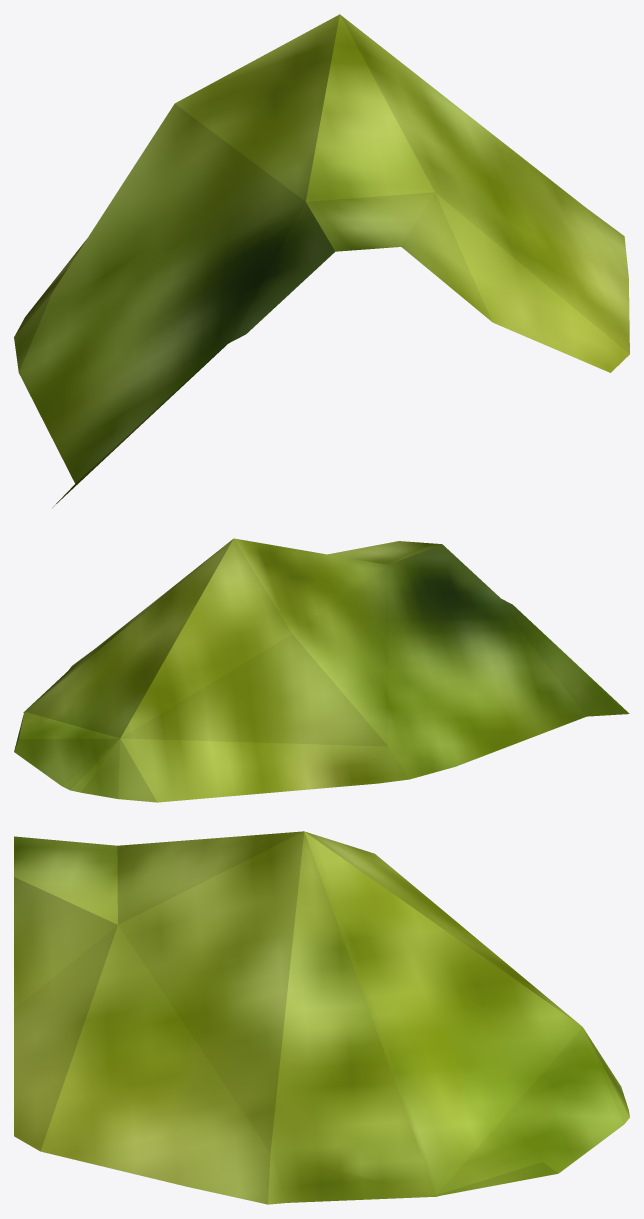
The picture shows the model from 3 angles, top to bottom: view 1: azimuth 30°, elevation 25°; view 2: azimuth 150°, elevation 25°; view 3: azimuth 270°, elevation 25°; orthographic projection. The views are drawn at different scales.
Bounding box in the file's own units: 0.2339 × 0.0857 × 0.189.
Materials: 1 (1 with a texture image).
